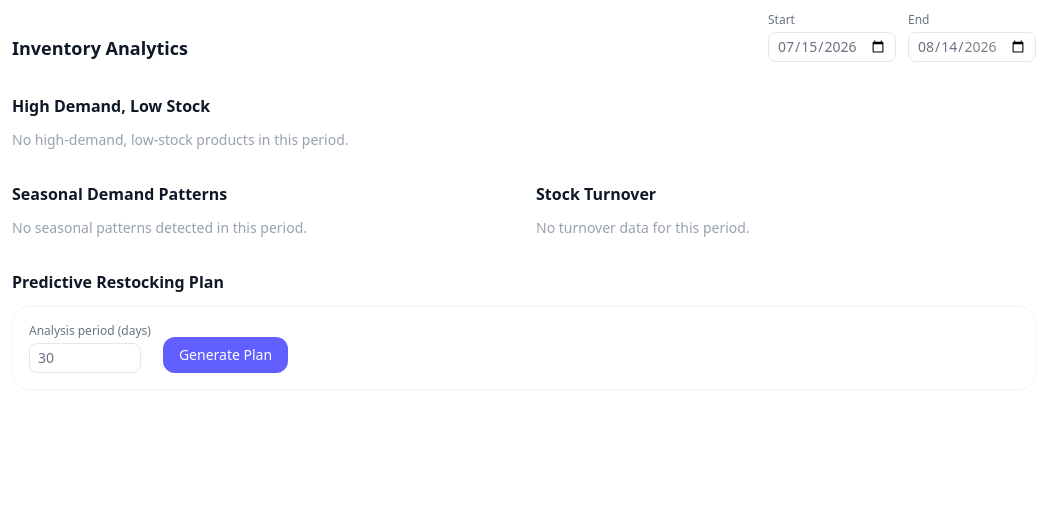
Test case: InventoryAnalyticsTab › generates a predictive restocking plan on demand
Click the button "Generate Plan": (226, 355) [163,337,288,373]
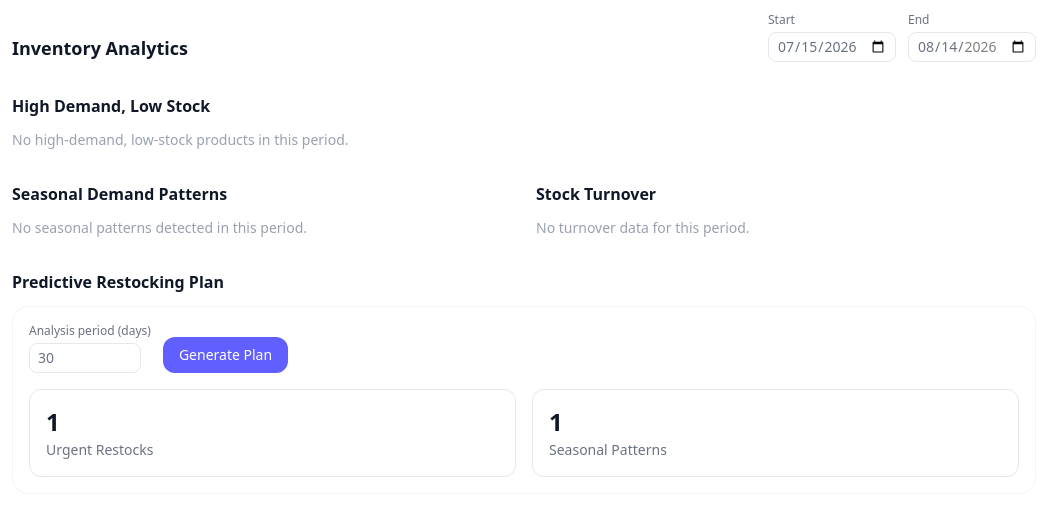
Result: the text "Urgent Restocks" is shown at [46,440,154,459]
Result: the text "1" is shown 2 times at [46,405,60,438]; [549,405,563,438]
